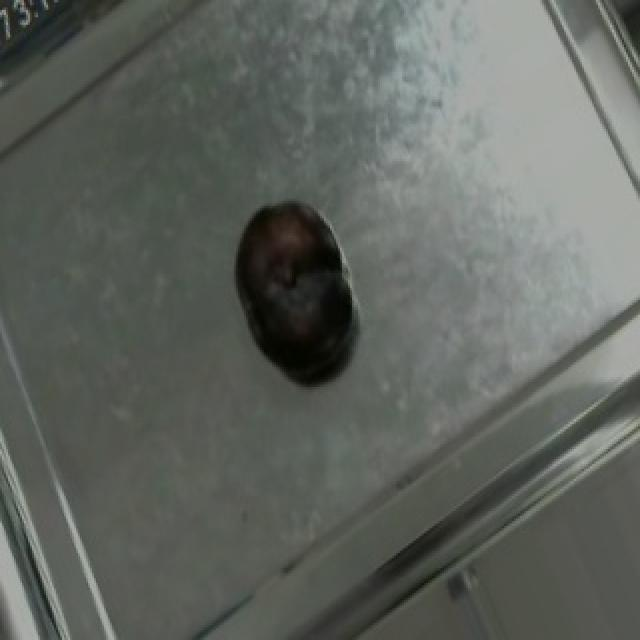Fruit: (216, 179, 364, 387)
